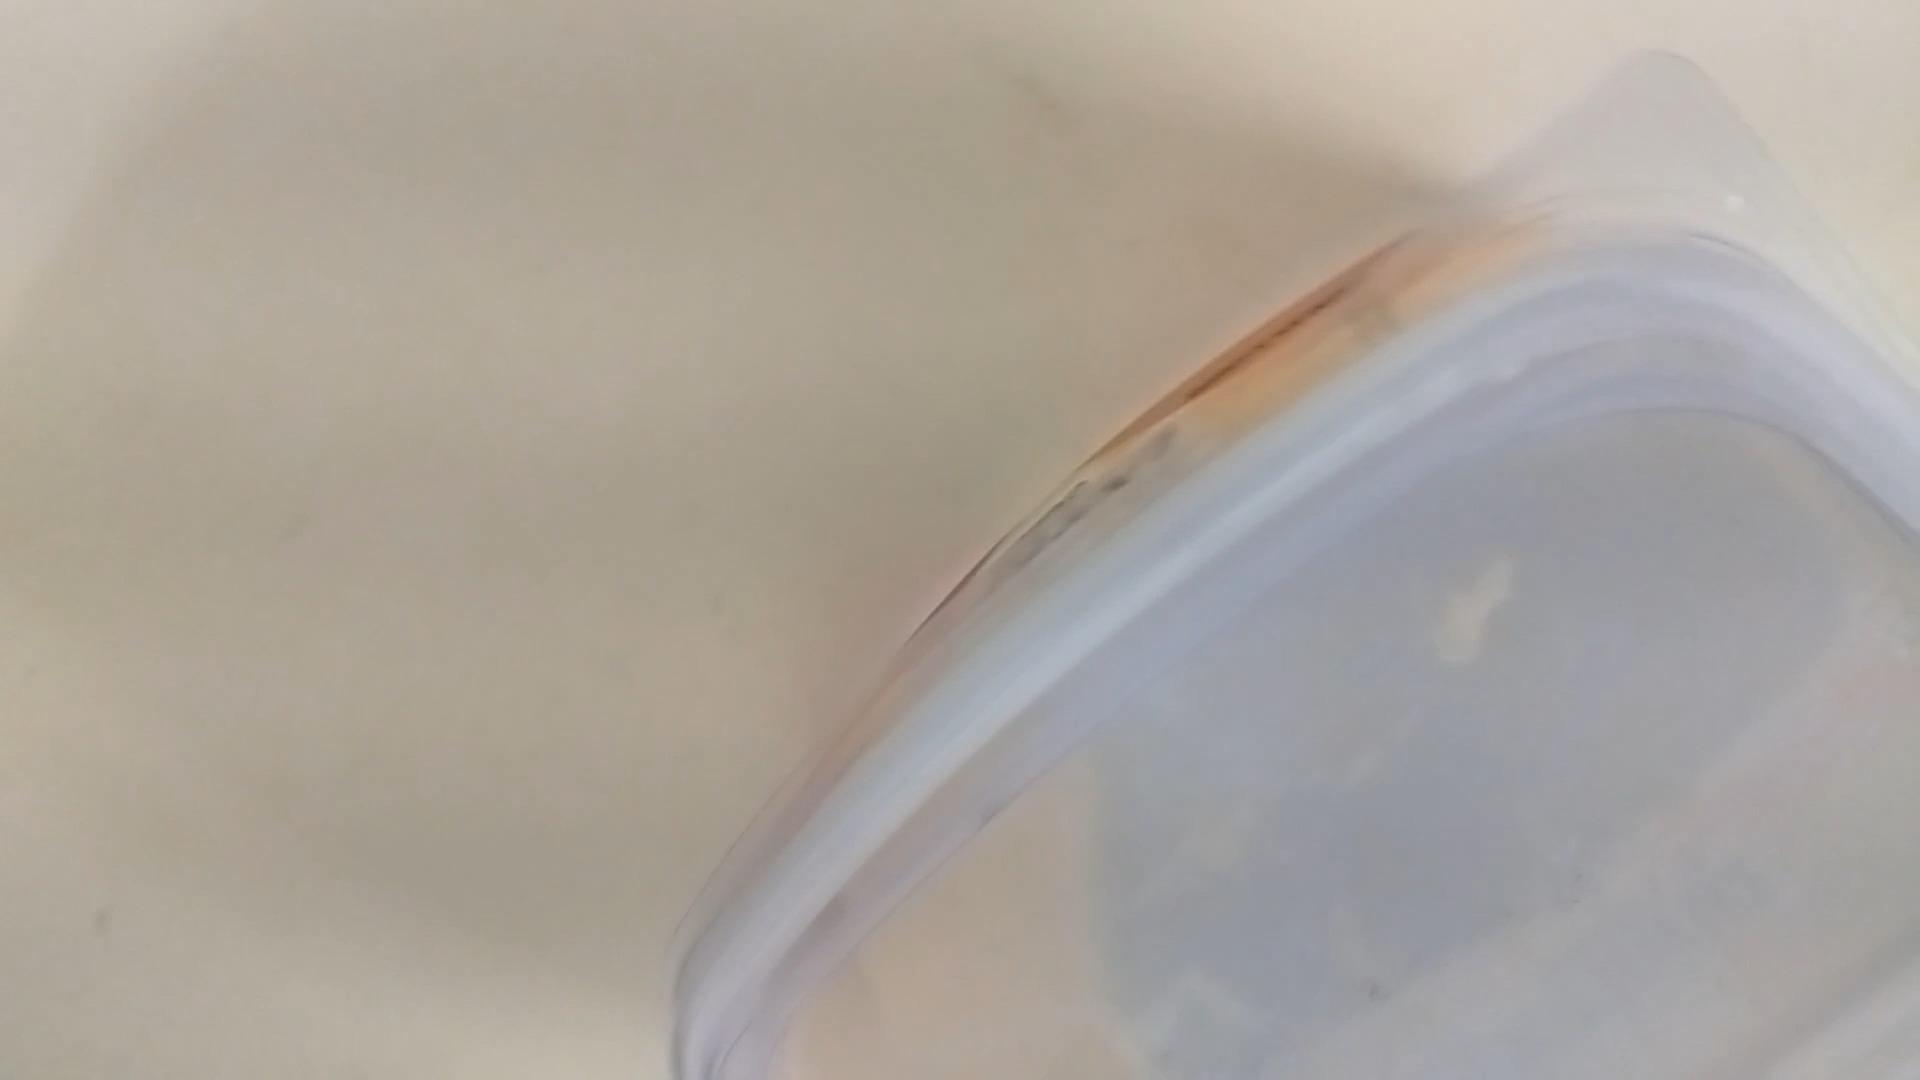butter: (680, 74, 1920, 1073)
